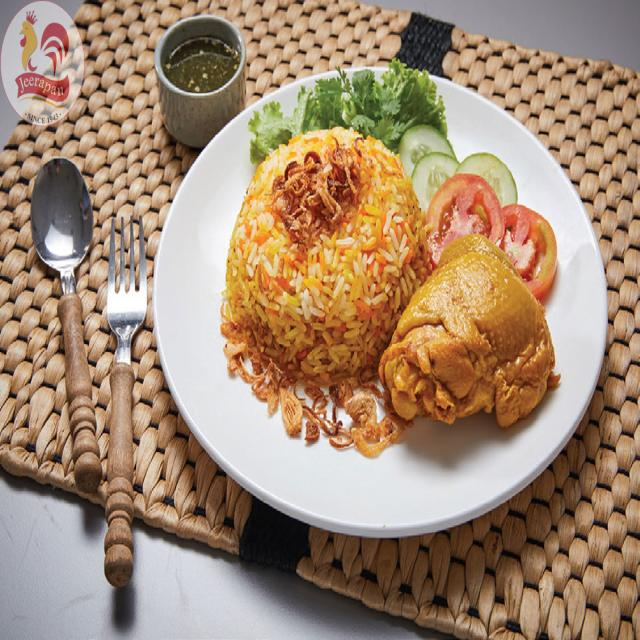Carbohydrate: (226, 124, 432, 384)
Kaow-Mokkai: (186, 41, 594, 527)
Protein: (379, 233, 559, 428)
Vegetable: (242, 64, 556, 302)
